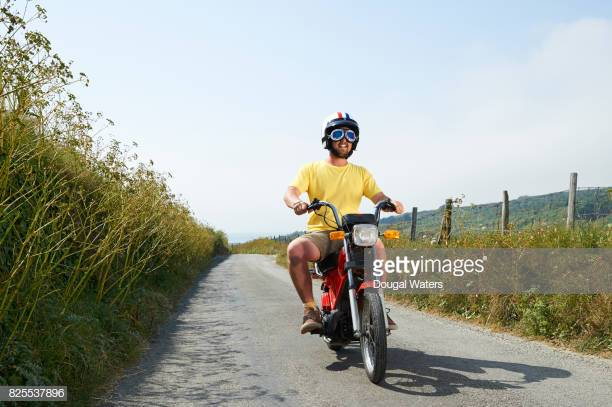with_helmet: (322, 110, 361, 154)
